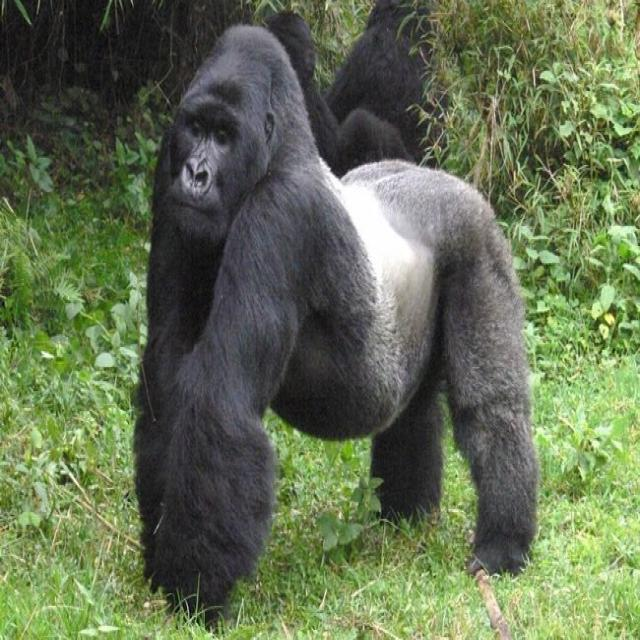Gorilla: (130, 5, 546, 625)
